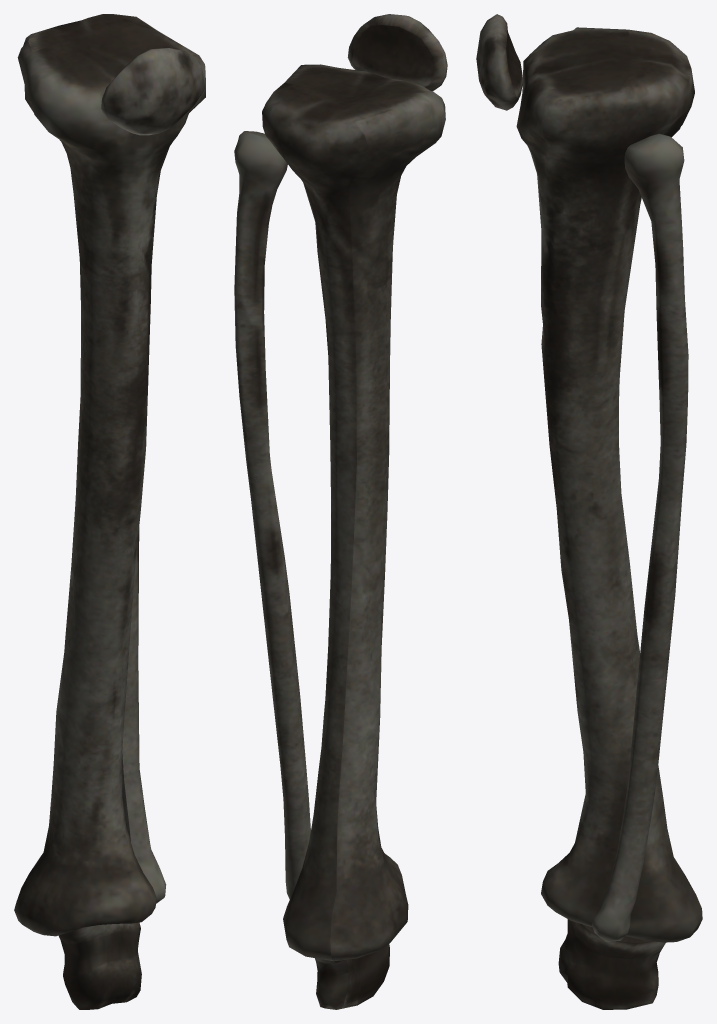
The model's file is left_leg_1.obj.
3 renders of one model, left to right at view 1: azimuth 30°, elevation 25°; view 2: azimuth 150°, elevation 25°; view 3: azimuth 270°, elevation 25°, orthographic. The views are drawn at different scales.
Parts seen in each view (by area): view 1: leg_2_iz1_Material; view 2: leg_2_iz1_Material; view 3: leg_2_iz1_Material.
Boxes of the visible parts, x1,y1,x2,y2 form: leg_2_iz1_Material: [14, 14, 205, 1009]; leg_2_iz1_Material: [234, 14, 447, 1009]; leg_2_iz1_Material: [476, 14, 702, 1009].
Bounding box in the file's own units: 0.0661 × 0.3591 × 0.0749.
